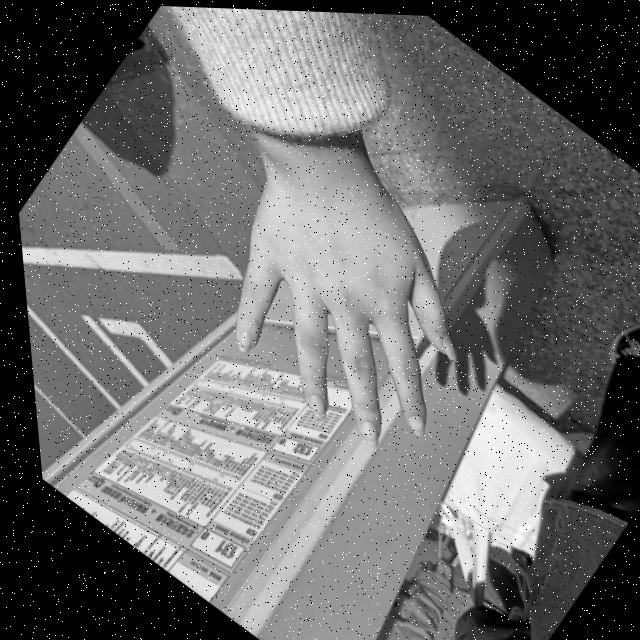hand: (153, 136, 519, 480)
